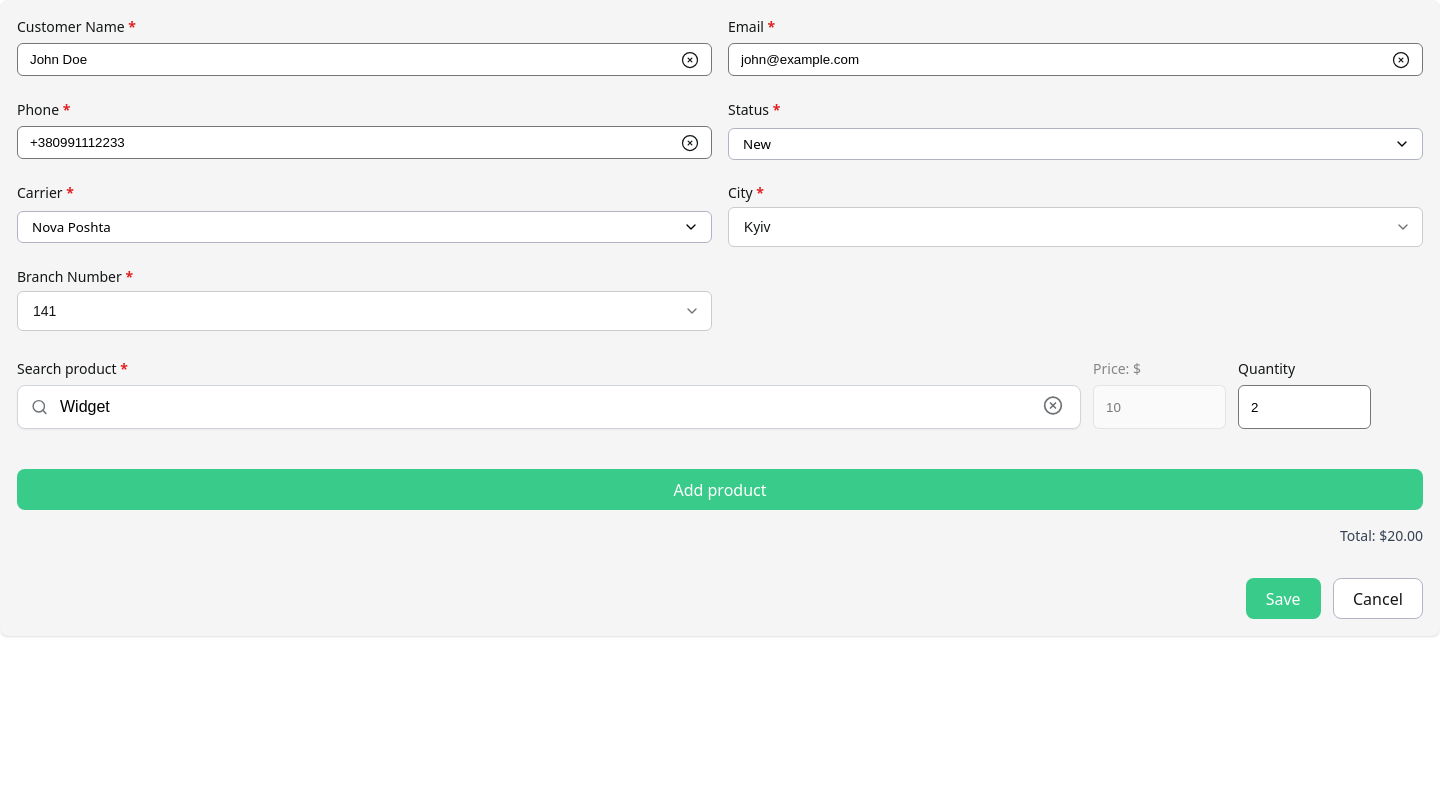
Test: Component: AdminOrderForm › adds and removes product row
The image size is (1440, 810).
Check: the number of fields labelled "Search product *" is 1, box [17,385,1081,429]
Click the button "Add product".
click(720, 490)  # box [17,469,1423,510]
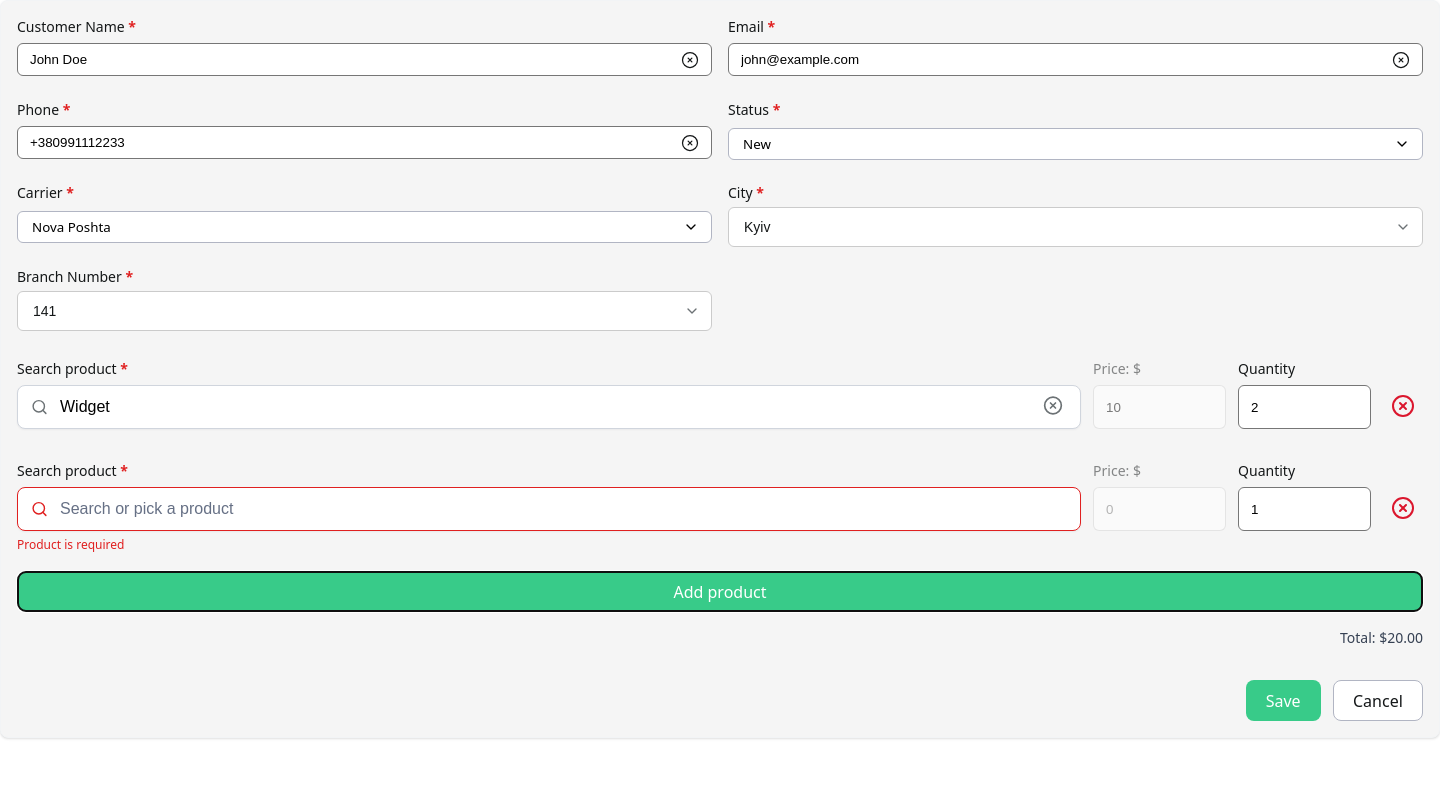
Check: the number of fields labelled "Search product *" is 2, box [17,385,1081,429]; [17,487,1081,531]
Click the 1st button named "Remove product row".
click(1403, 406)  # box [1390,393,1416,419]
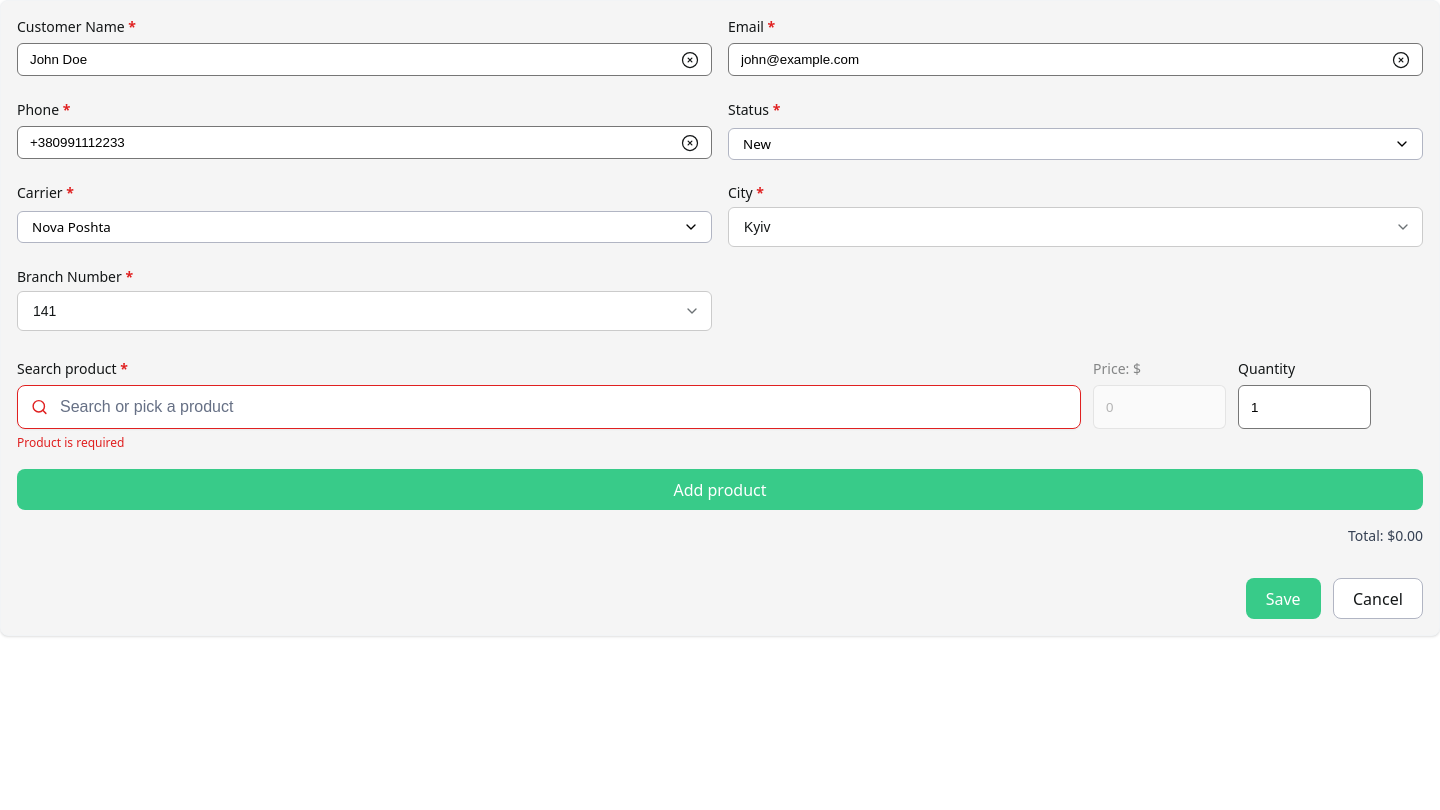
Check: the number of fields labelled "Search product *" is 1, box [17,385,1081,429]
